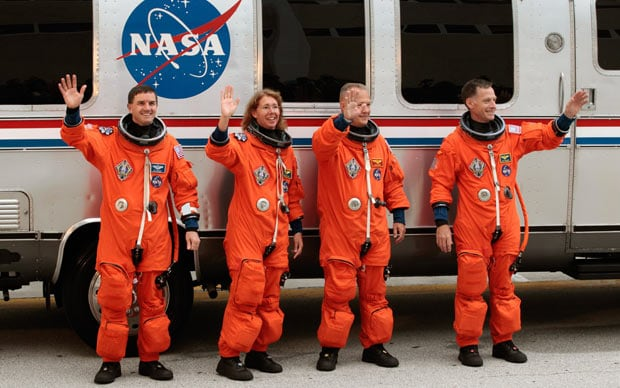NASA: (106, 1, 242, 100), (500, 163, 513, 178), (151, 175, 164, 189), (280, 182, 291, 194), (371, 168, 382, 180)
